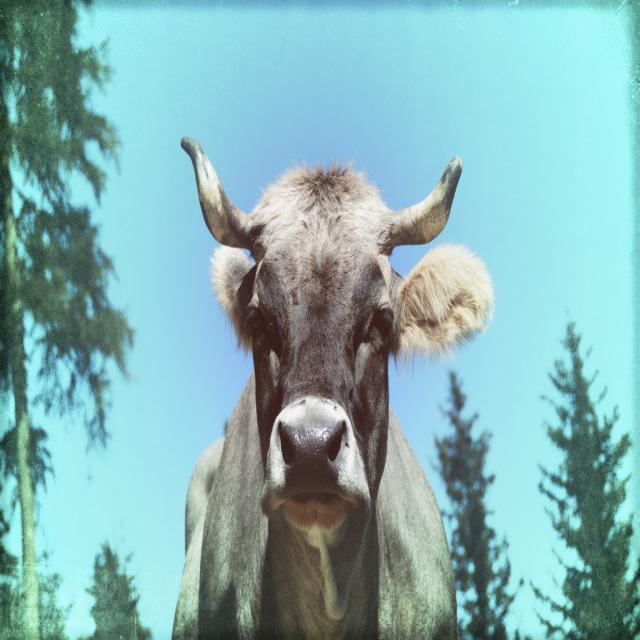Cattle: (185, 136, 493, 636)
